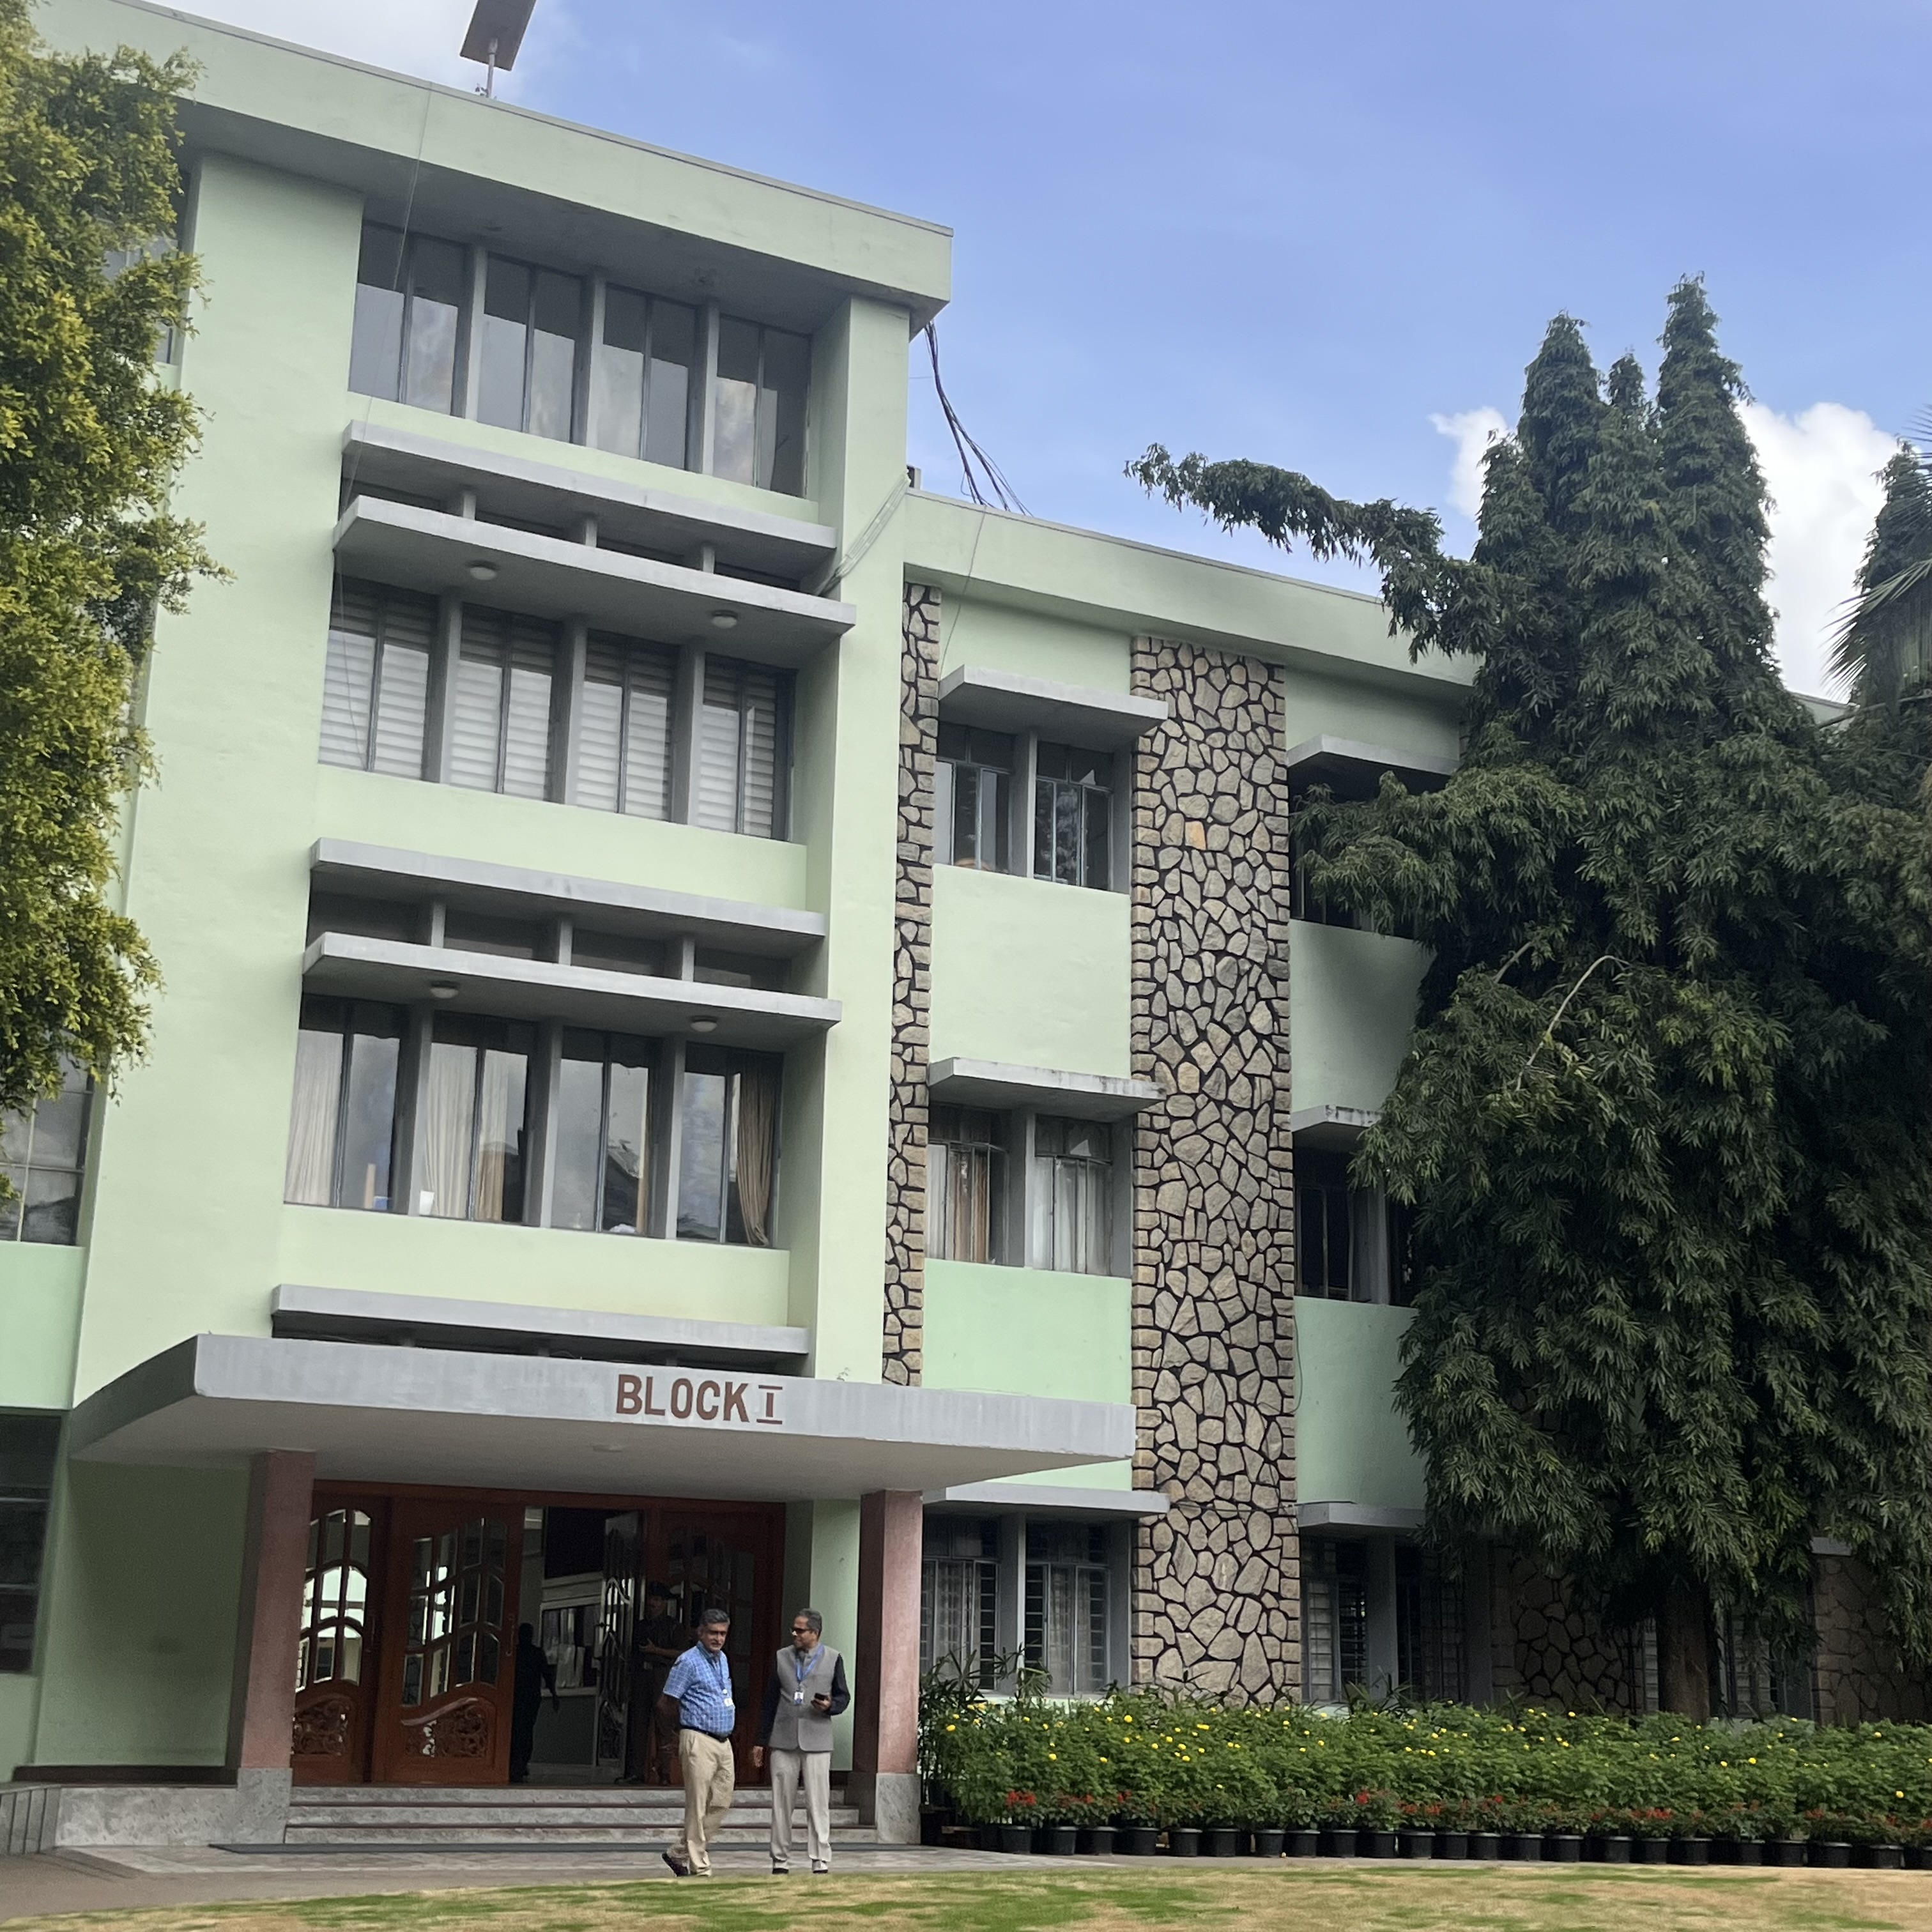Block 1: (173, 25, 1451, 1688)
